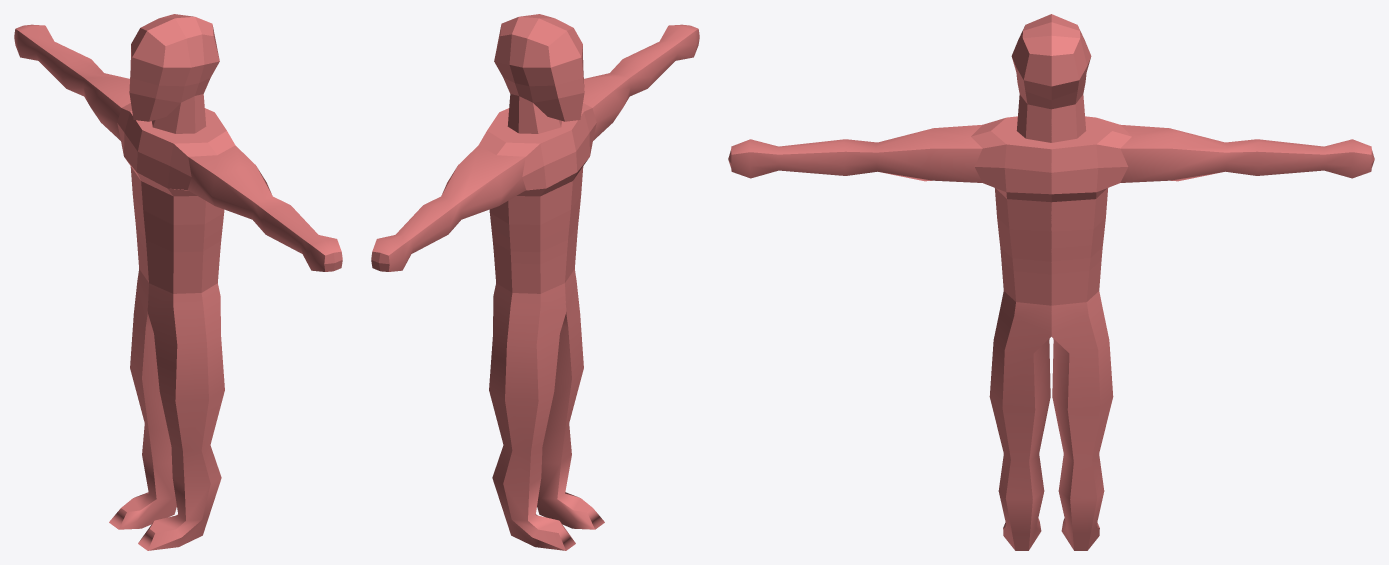
The picture shows the model from 3 angles, left to right: view 1: azimuth 30°, elevation 25°; view 2: azimuth 150°, elevation 25°; view 3: azimuth 270°, elevation 25°; orthographic projection. The views are drawn at different scales.
Parts seen in each view (by area): view 1: AI_Body; view 2: AI_Body; view 3: AI_Body.
Boxes of the visible parts, <box> form: AI_Body: <box>14,14,342,550</box>; AI_Body: <box>371,14,699,550</box>; AI_Body: <box>728,14,1374,550</box>.
Bounding box in the file's own units: 1.04 × 5.45 × 6.1.
